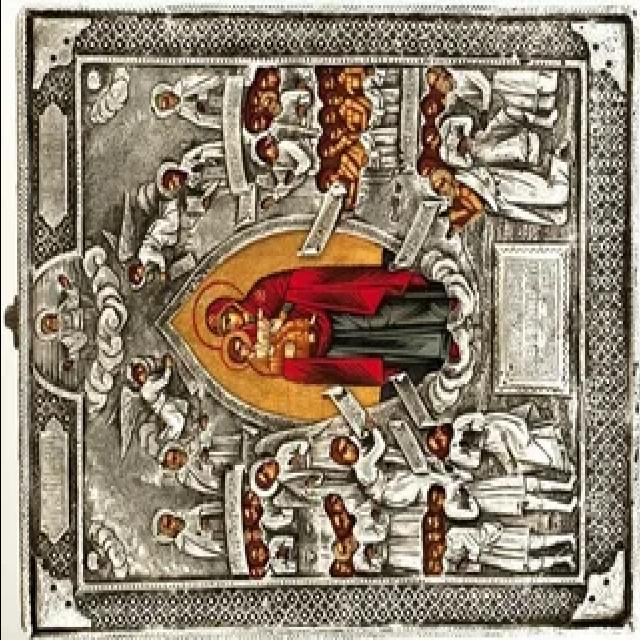mother of god: (193, 250, 465, 404)
